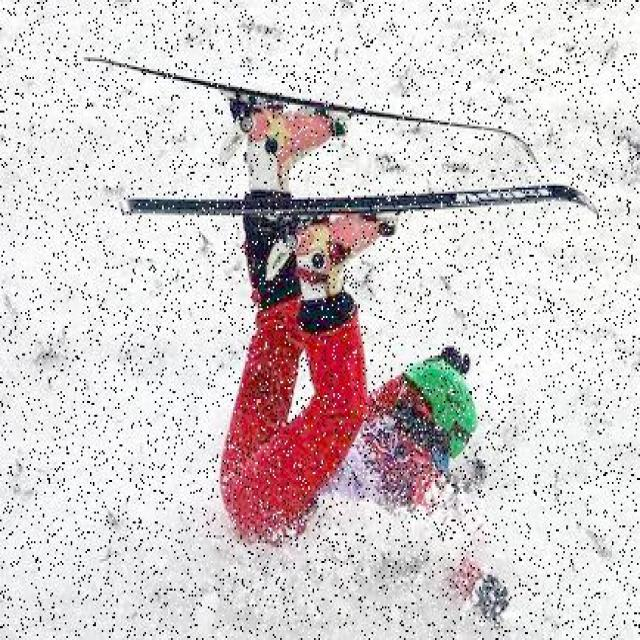fall: (233, 250, 506, 606)
